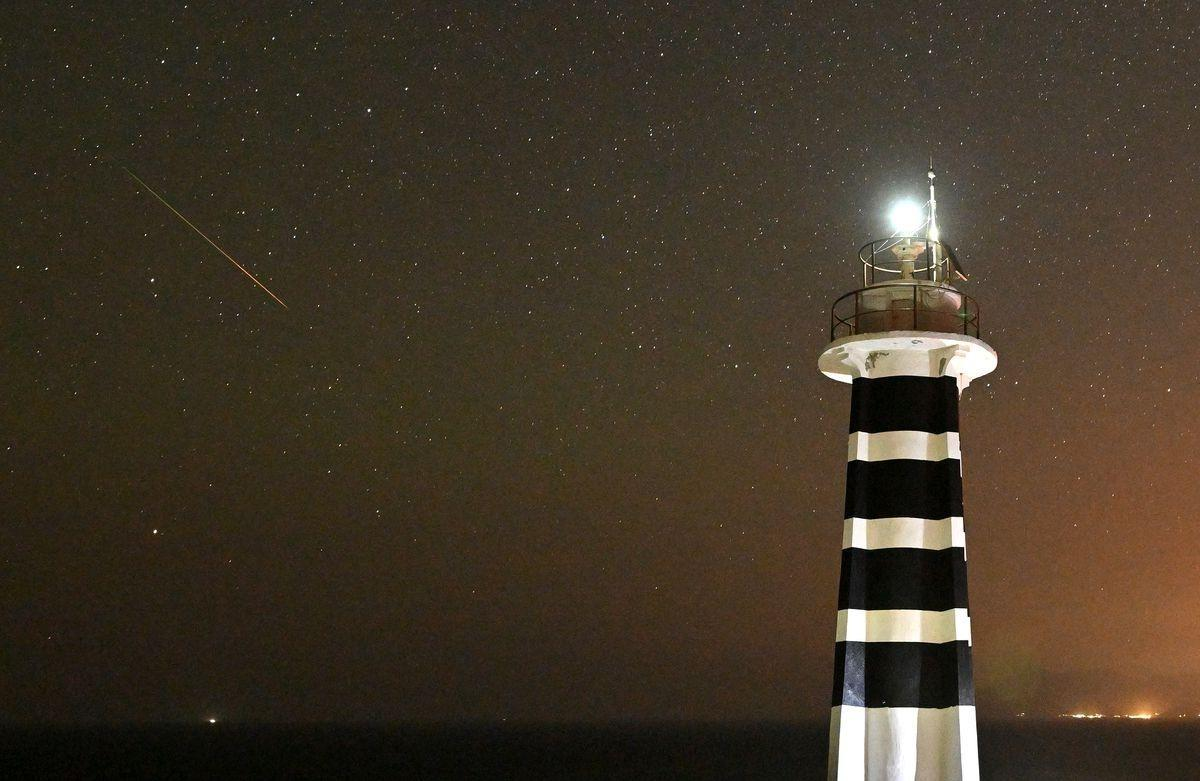meteorite: (112, 157, 309, 324)
